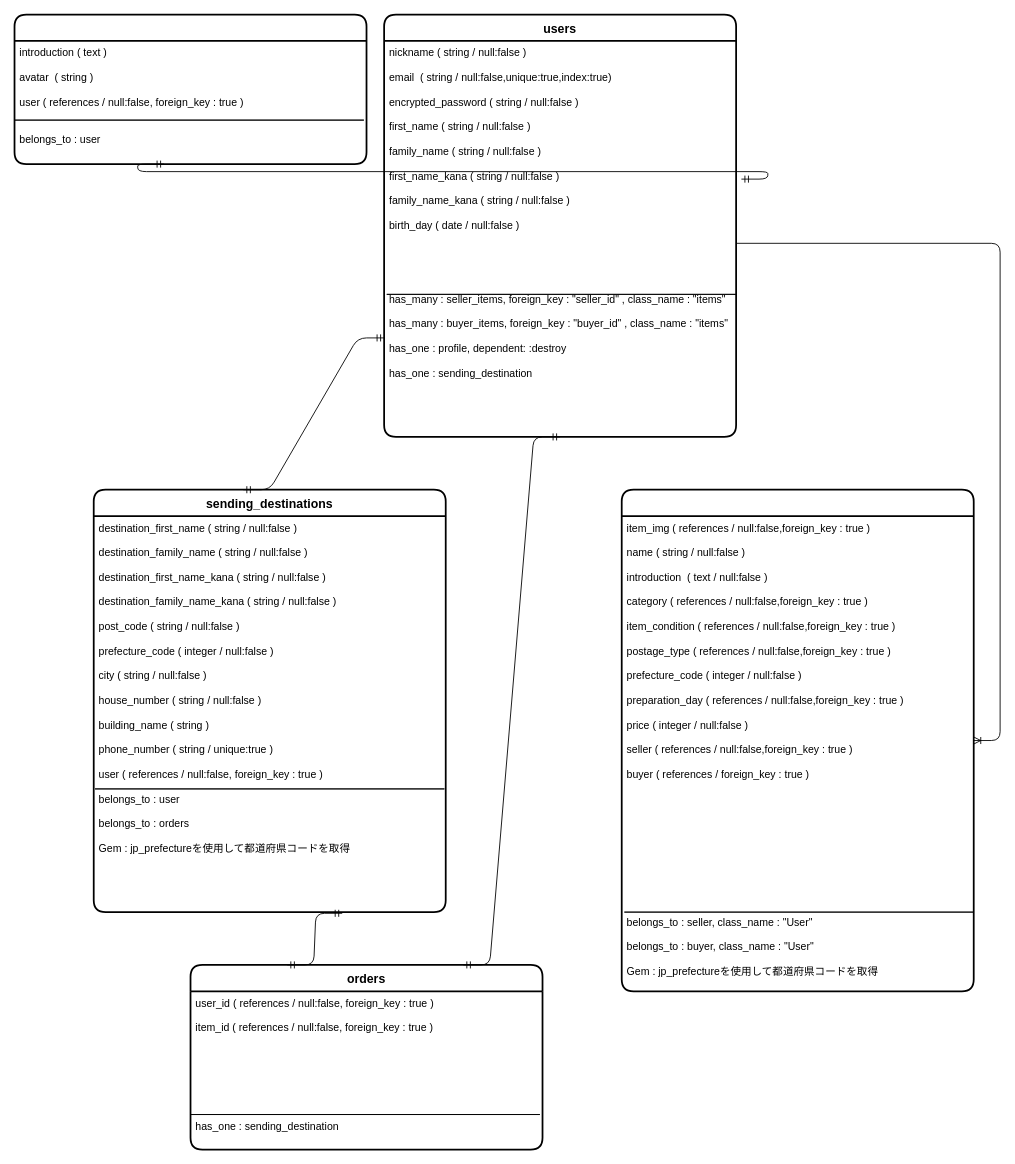
This 1015x1164 diagram has some shape labels left out. The shapes that lost their labels are listed below. From the top down, each one's box as (x1, y1, x2, y2) in pixels, then its label:
(13, 13, 367, 165): profiles
(620, 488, 974, 992): items
